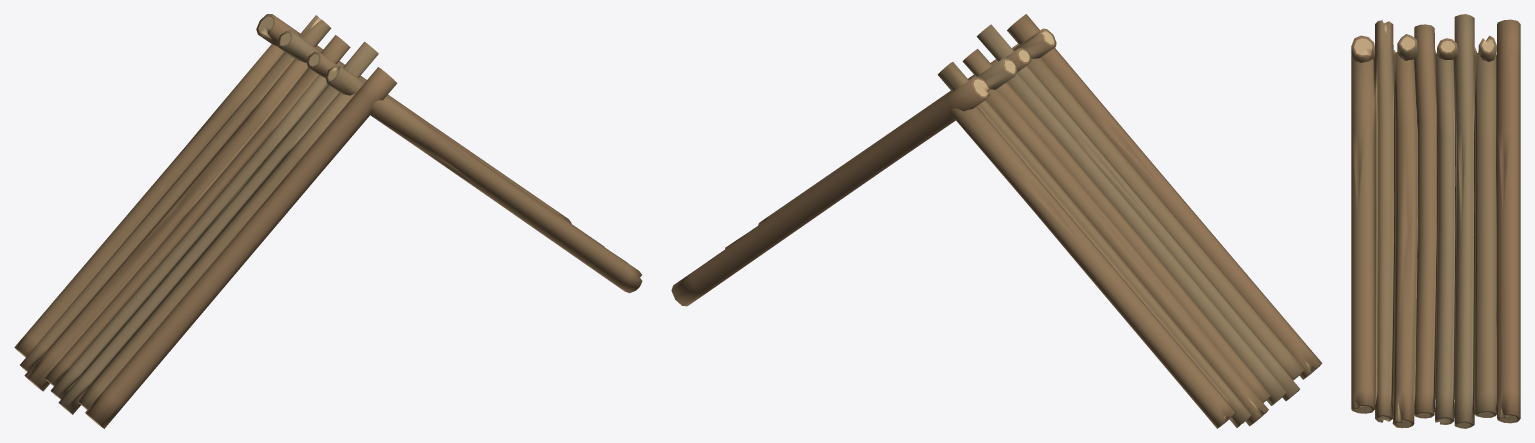
The model's file is rpgpp_ag_roof_01b_6x3x3.fbx.
3 renders of one model, left to right at view 1: azimuth 30°, elevation 25°; view 2: azimuth 150°, elevation 25°; view 3: azimuth 270°, elevation 25°, orthographic. The views are drawn at different scales.
Parts seen in each view (by area): view 1: rpgpp_ag_roof_01b_6x3x3; view 2: rpgpp_ag_roof_01b_6x3x3; view 3: rpgpp_ag_roof_01b_6x3x3.
Part boxes in pixels (left/top/right/bottom): rpgpp_ag_roof_01b_6x3x3: left=14, top=14, right=642, bottom=428; rpgpp_ag_roof_01b_6x3x3: left=671, top=14, right=1322, bottom=428; rpgpp_ag_roof_01b_6x3x3: left=1351, top=14, right=1520, bottom=428.
Bounding box in the file's own units: 10.85 × 5.49 × 3.
